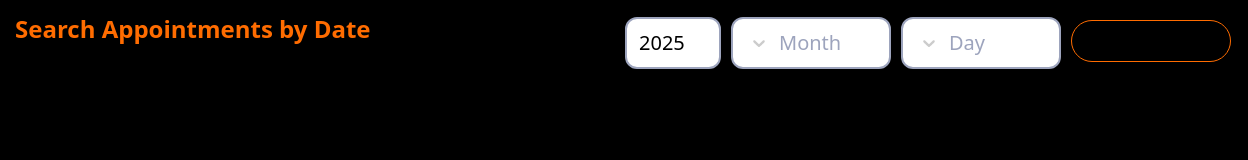
AppointmentsSearchForm component › does not allow negative year input
Type "-2025" into the number field with placeholder "Year". click: (673,43)
box: [625,17,721,69]
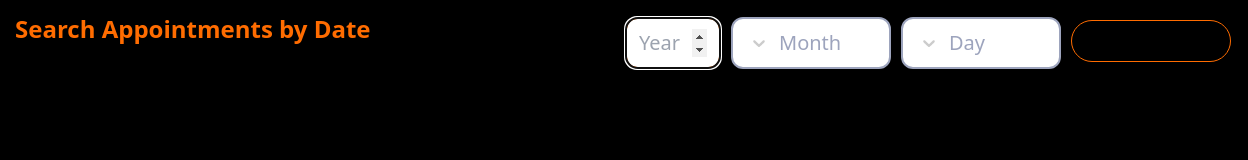
expect the number field with placeholder "Year" does not hold "-2025": met, box [625,17,721,69]
